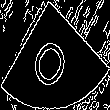O_NE: (31, 21, 79, 89)
